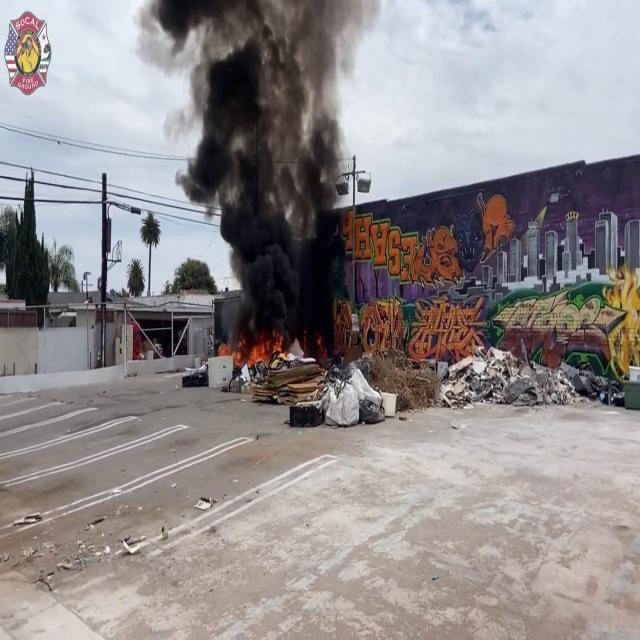Fire: (216, 330, 292, 374)
Smoke: (160, 1, 358, 327)
